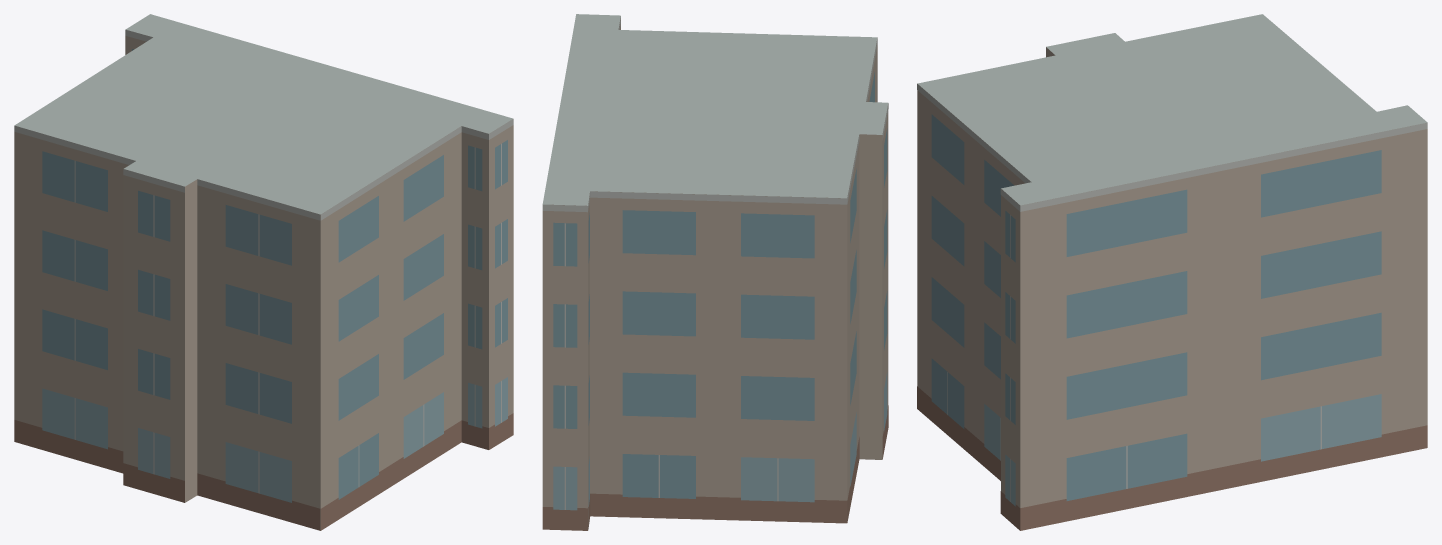
Rendered from survey-upis-32736067.glb.
The picture shows the model from 3 angles, left to right: view 1: azimuth 30°, elevation 25°; view 2: azimuth 150°, elevation 25°; view 3: azimuth 270°, elevation 25°; orthographic projection. The views are drawn at different scales.
Visible parts, largest first — view 1: survey-upis-32736067.tmp; view 2: survey-upis-32736067.tmp; view 3: survey-upis-32736067.tmp.
Part boxes in pixels (x1,y1,x2,y2): survey-upis-32736067.tmp: (14, 14, 513, 530); survey-upis-32736067.tmp: (542, 14, 888, 530); survey-upis-32736067.tmp: (917, 14, 1427, 530).
Size of the model in its own units: 15.73 by 12.45 by 17.71.
